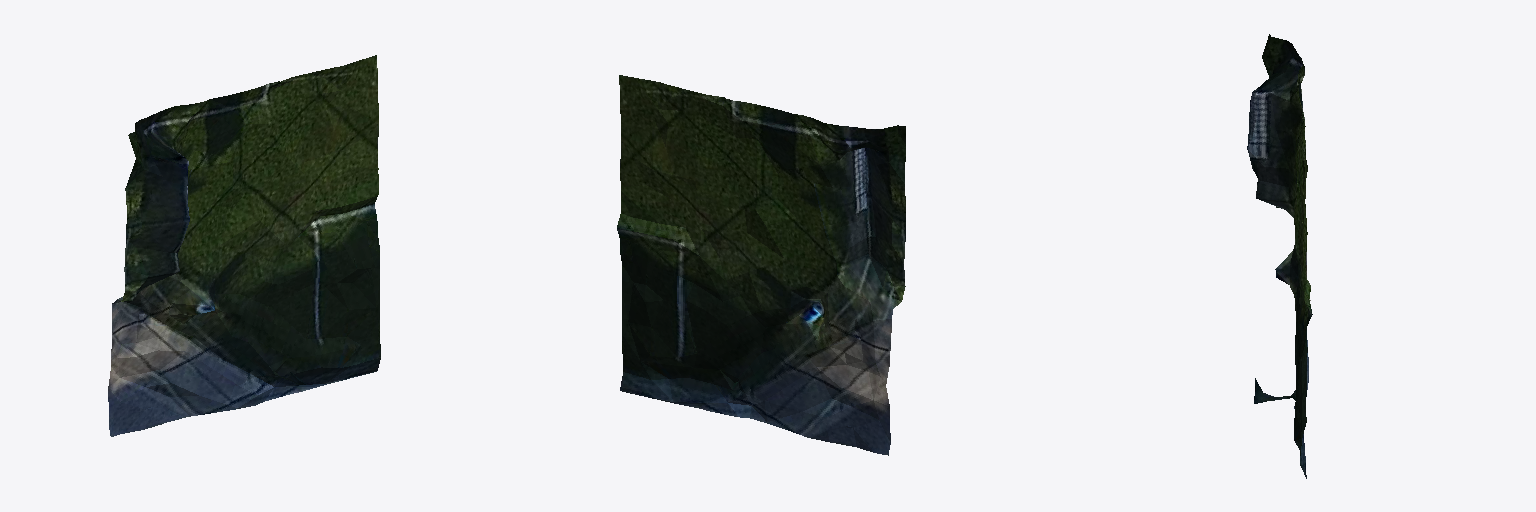
3 views of the same model, side by side, from view 1: azimuth 30°, elevation 25°; view 2: azimuth 150°, elevation 25°; view 3: azimuth 270°, elevation 25° (orthographic).
Parts seen in each view (by area): view 1: obj_0; view 2: obj_0; view 3: obj_0.
Boxes of the visible parts, box(x1,y1,x2,y2) form: obj_0: box(108, 55, 380, 436); obj_0: box(617, 75, 905, 455); obj_0: box(1247, 34, 1312, 478).
Bounding box in the file's own units: 10.05 × 11.26 × 2.11.
Materials: 1 (1 with a texture image).